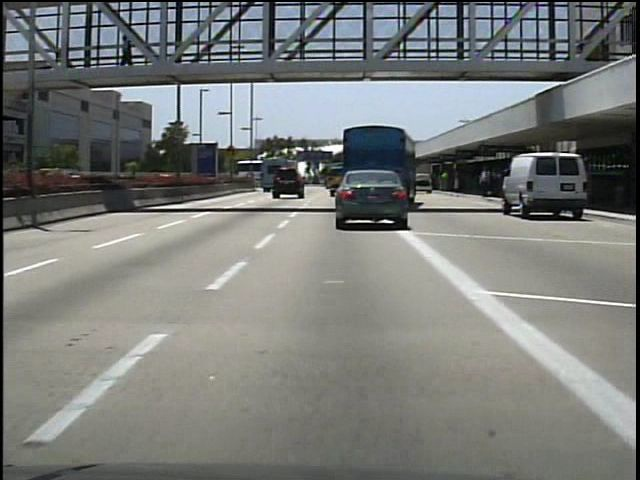person: (118, 32, 140, 80), (479, 164, 494, 199)
